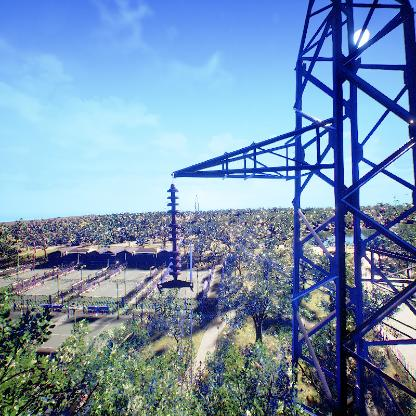insulator: (163, 185, 184, 280)
